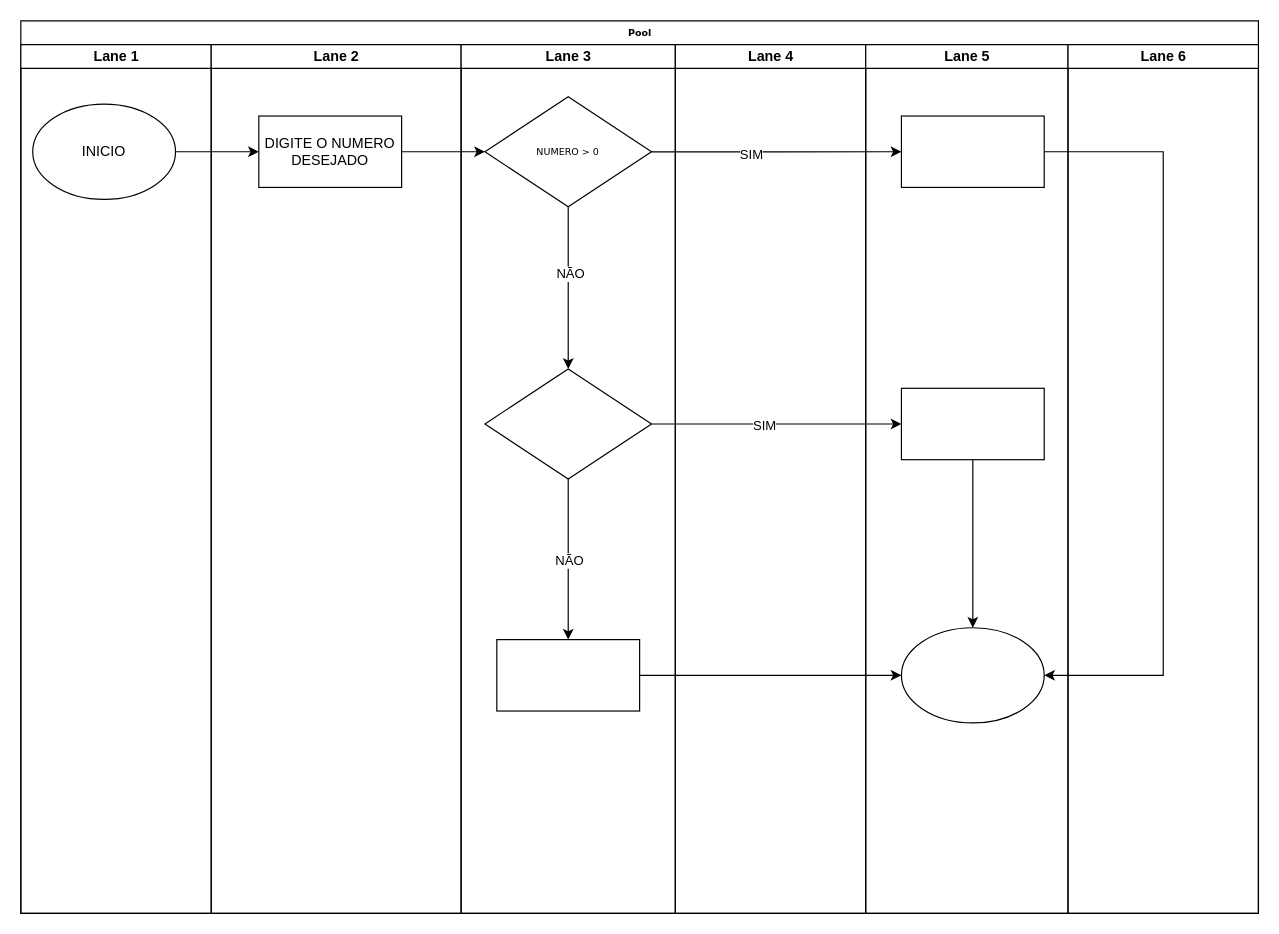
Some shapes in this 1279 by 934 pixel diagram are drawn without their labels. Each missing label, with the box of its shape:
FIM: (900, 627, 1044, 723)
NEGATIVO: (900, 387, 1044, 460)
NUMERO < 0: (484, 368, 652, 479)
NUMERO É 0: (496, 638, 640, 711)
POSITIVO: (900, 115, 1044, 187)
